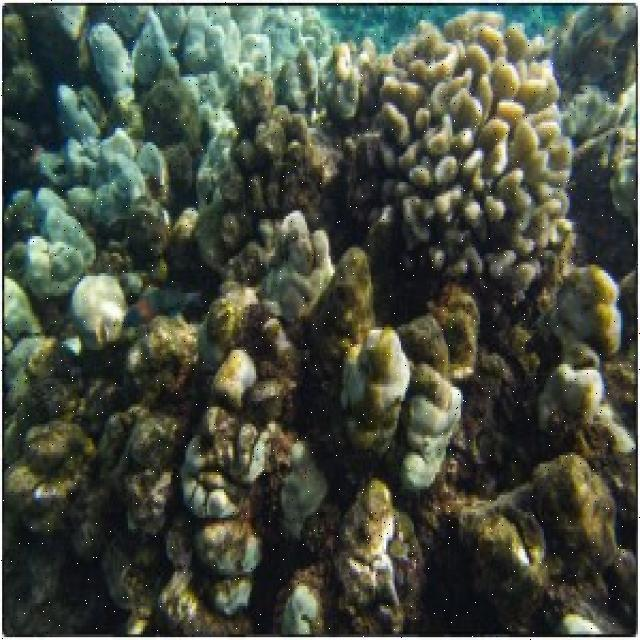Bleached: (4, 1, 337, 382), (240, 425, 329, 523), (267, 207, 340, 315), (341, 476, 401, 606), (182, 405, 242, 523), (559, 365, 636, 454), (200, 521, 258, 618), (411, 384, 462, 489), (339, 343, 411, 417), (217, 349, 256, 394), (161, 574, 199, 620), (287, 586, 317, 640)
Healthy: (150, 118, 640, 640), (360, 5, 577, 301), (5, 384, 152, 640), (444, 458, 640, 602), (578, 8, 640, 263), (4, 8, 80, 202), (409, 291, 559, 368), (562, 264, 640, 367), (338, 244, 376, 338)
